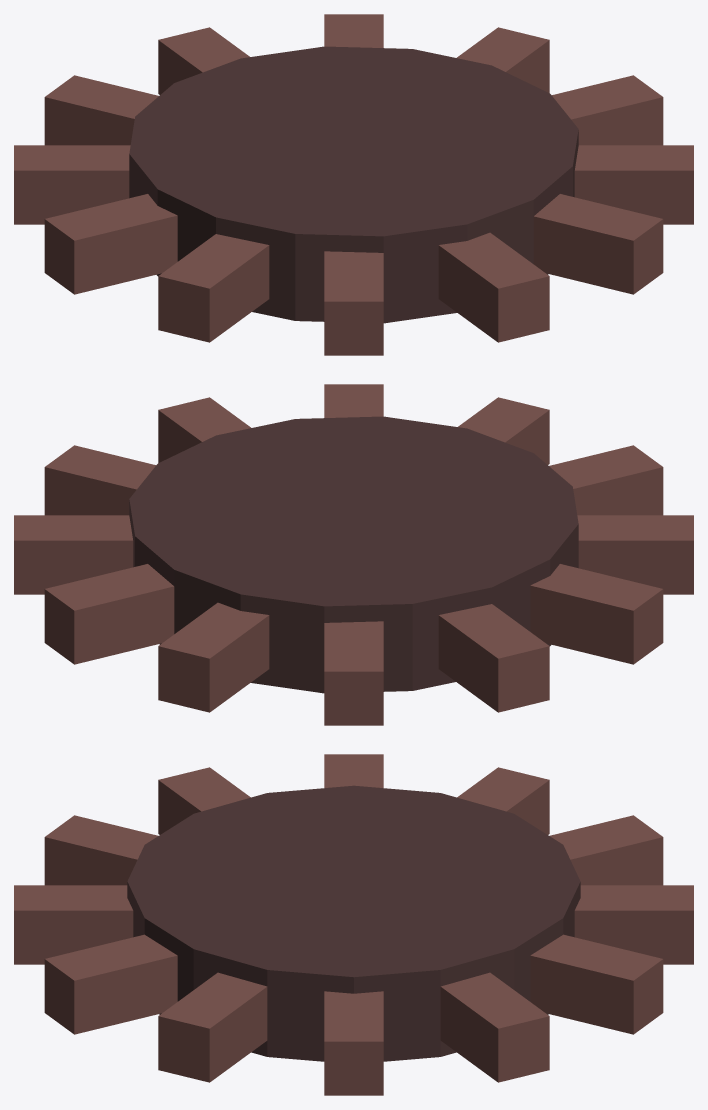
File: DarkRoseWoodMechMedium12ToothCog1.fbx
3 renders of one model, top to bottom at view 1: azimuth 30°, elevation 25°; view 2: azimuth 150°, elevation 25°; view 3: azimuth 270°, elevation 25°, orthographic.
Visible parts, largest first — view 1: CogBody, CogTeeth; view 2: CogBody, CogTeeth; view 3: CogBody, CogTeeth.
Boxes of the visible parts, <box> form: CogBody: <box>129,46,578,323</box>; CogTeeth: <box>14,14,693,355</box>; CogBody: <box>129,416,578,693</box>; CogTeeth: <box>14,384,693,725</box>; CogBody: <box>127,785,580,1061</box>; CogTeeth: <box>14,754,693,1095</box>.
Bounding box in the file's own units: 210 × 29.7 × 210.
